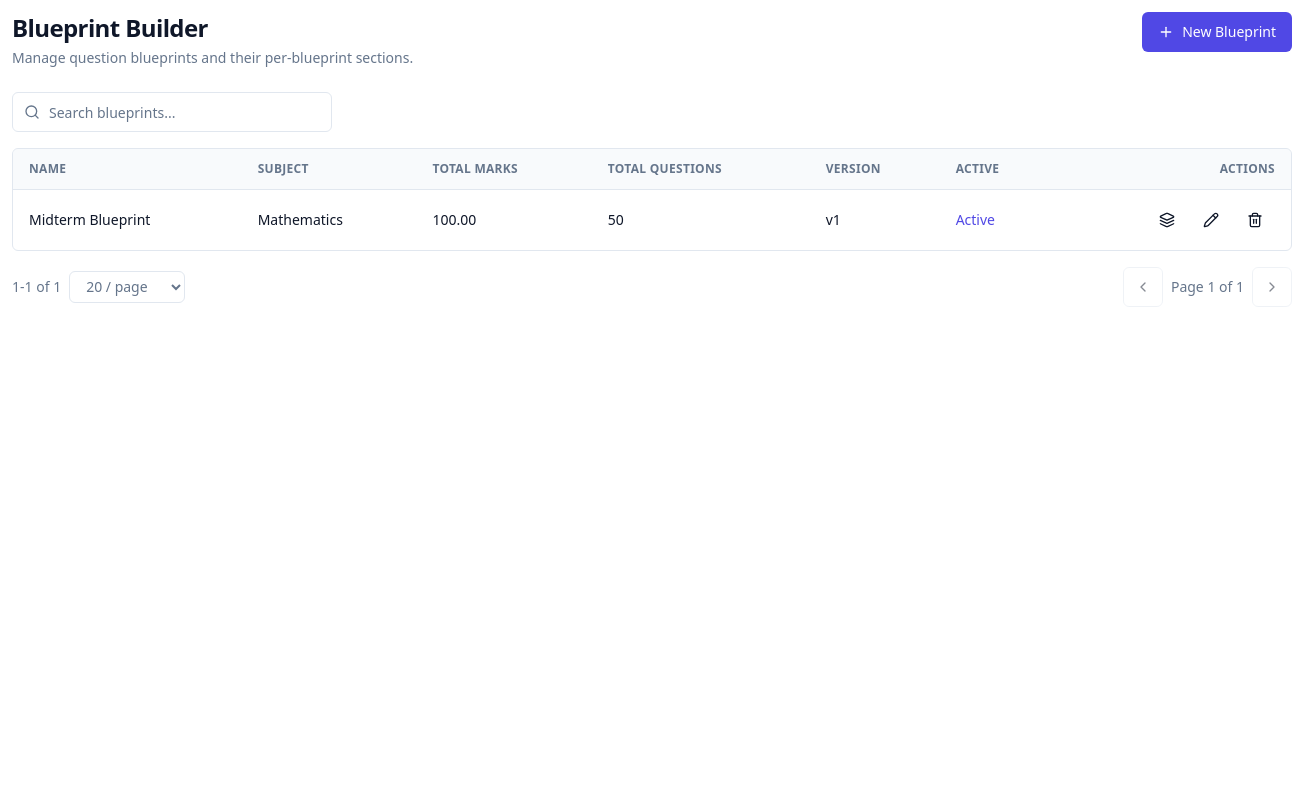
Test: BlueprintBuilderPage › opens the sections panel for a blueprint
The width and height of the screenshot is (1304, 812).
Expected: the text "Midterm Blueprint" is shown, [13,189,242,250]
Click the button named "Manage sections for Midterm Blueprint" at (1167, 220), box [1147,200,1187,240]
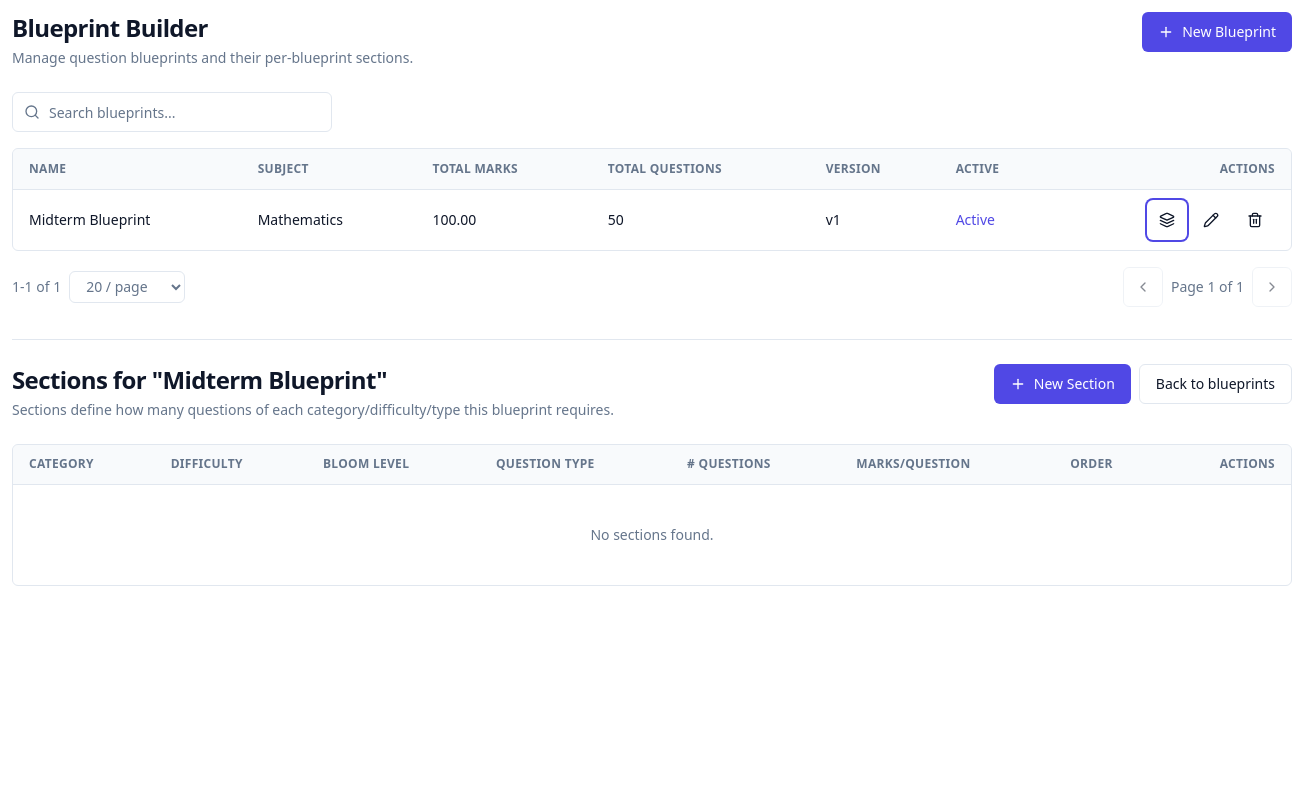
Expected: the text "No sections found." is shown, [13,484,1291,585]
Expected: the button "Back to blueprints" is shown, [1139,364,1292,404]
